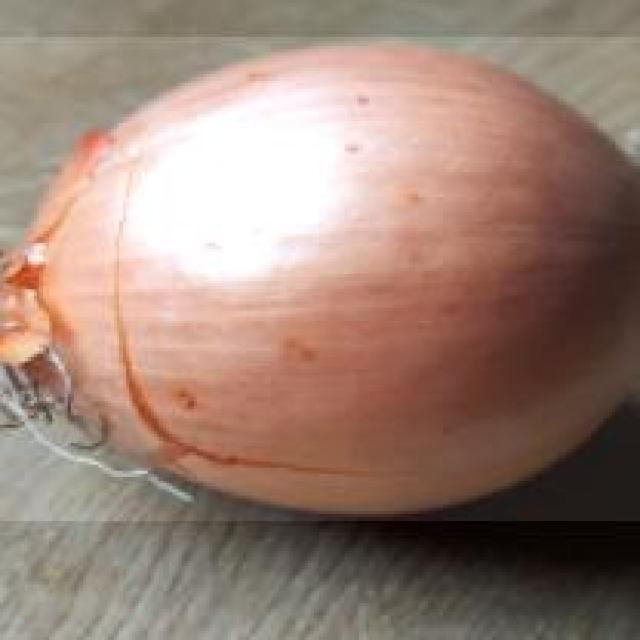onion: (0, 34, 640, 520)
